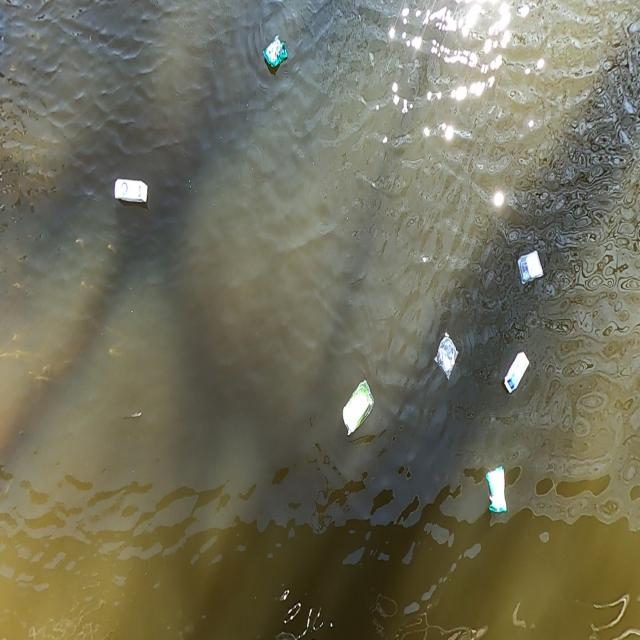Autre plastique: (503, 347, 528, 408), (113, 179, 153, 212)
